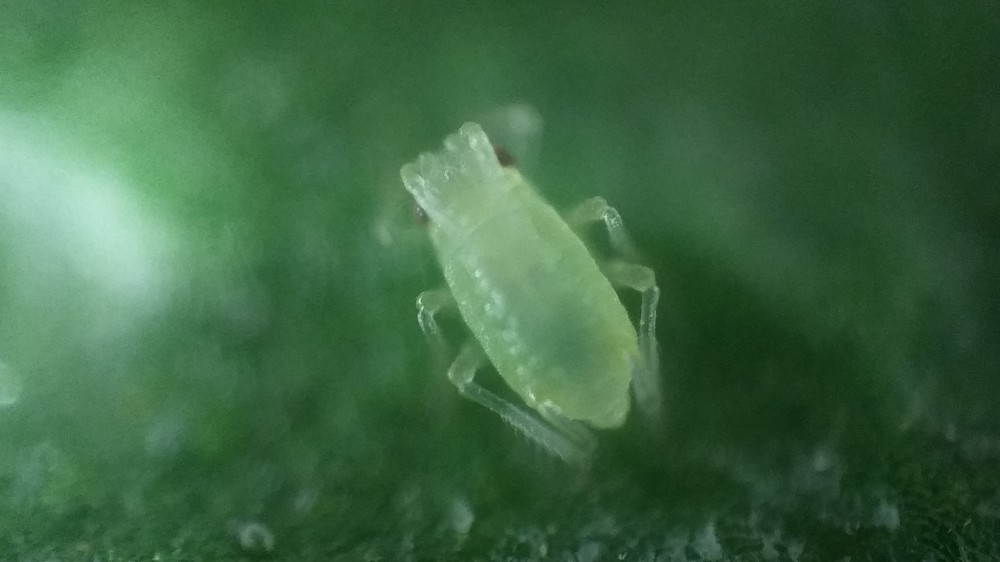Pulgon: (356, 108, 703, 496)
